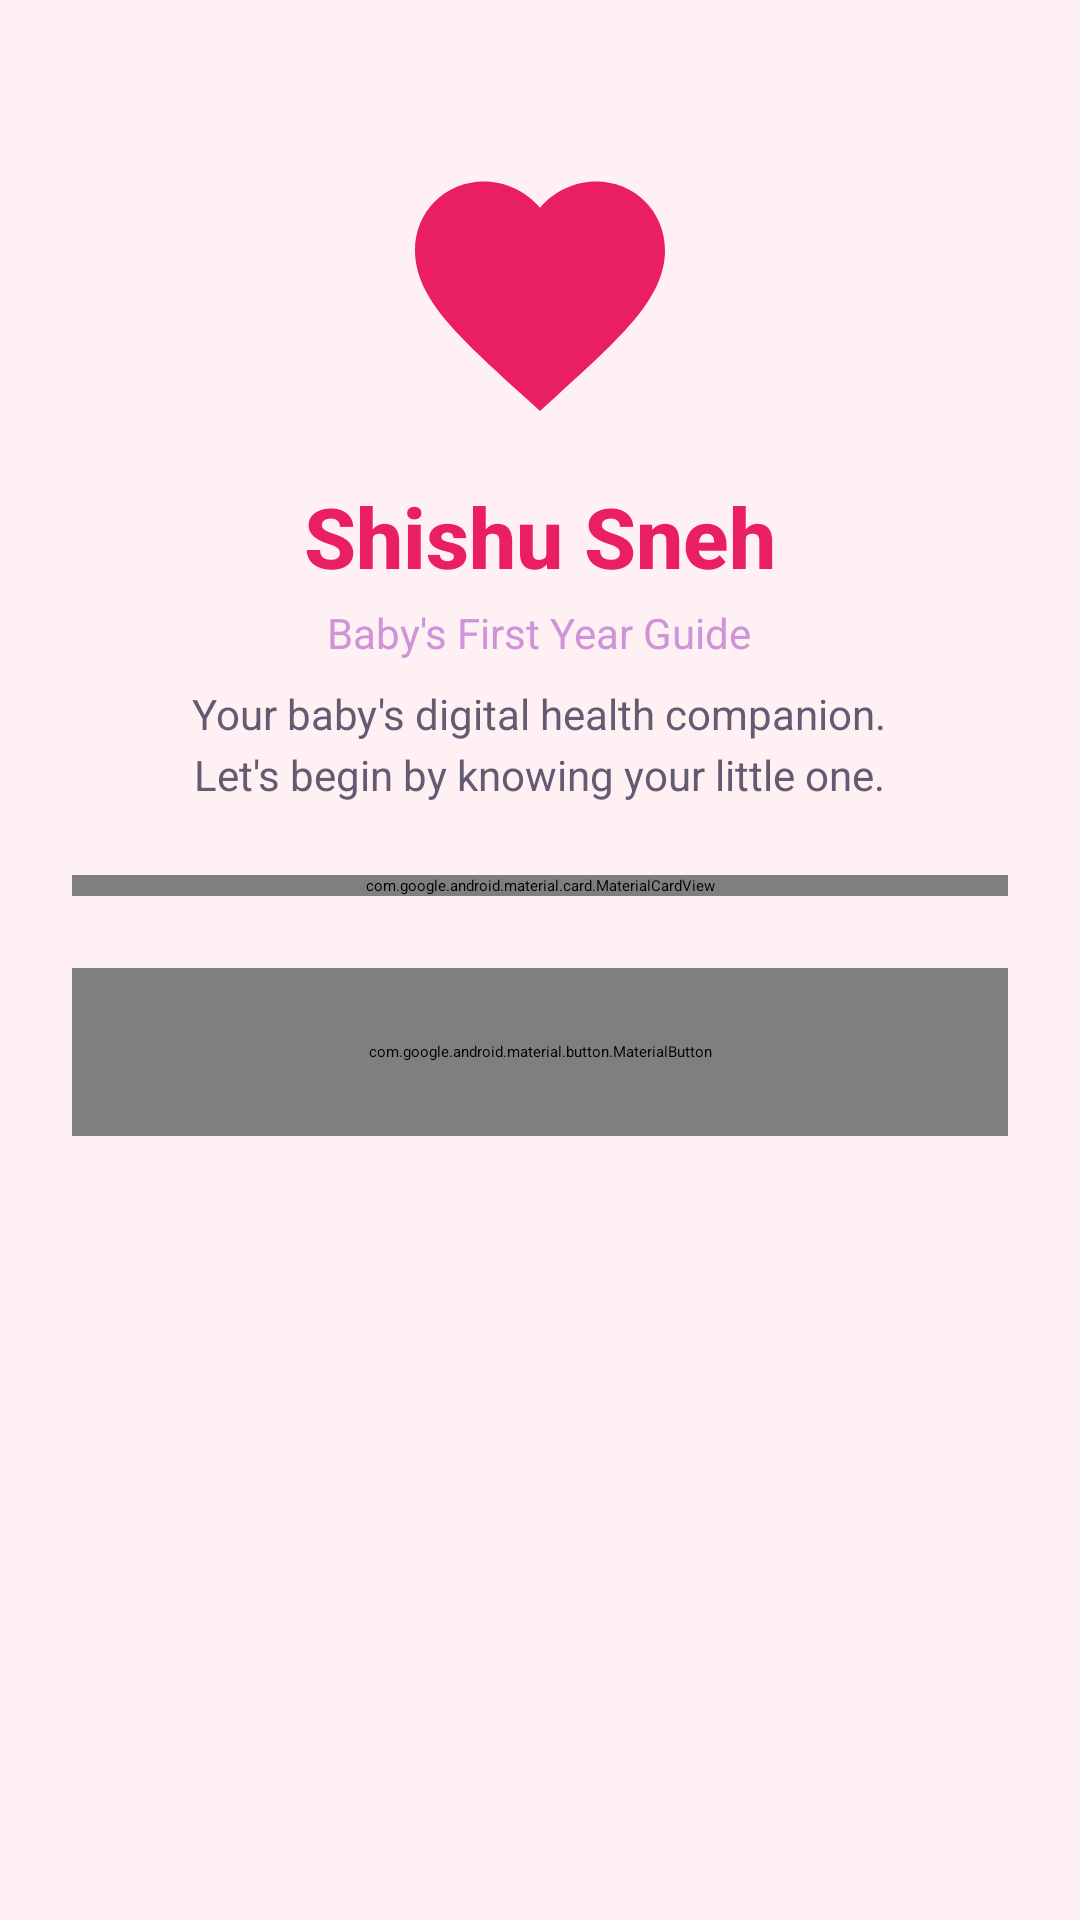

Icons on this 1080px×1920px Android screen, each with the point to tap as [x,y]:
Welcome illustration: [540,296]
